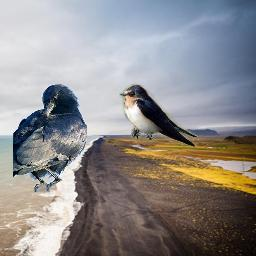Crow: (13, 84, 87, 192)
Swallow: (119, 83, 198, 149)
